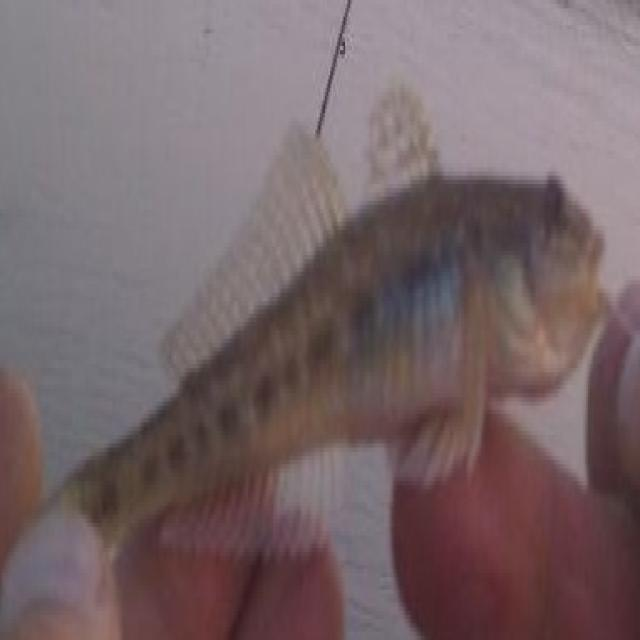Goby: (53, 61, 607, 591)
